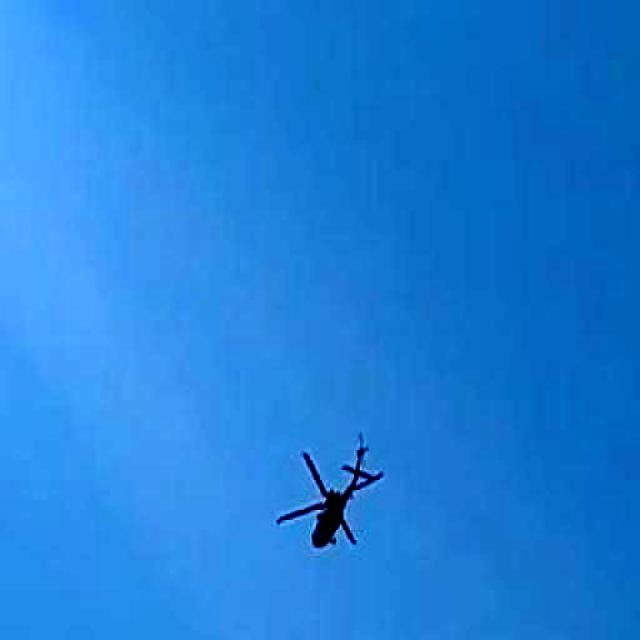drone: (262, 408, 412, 570)
